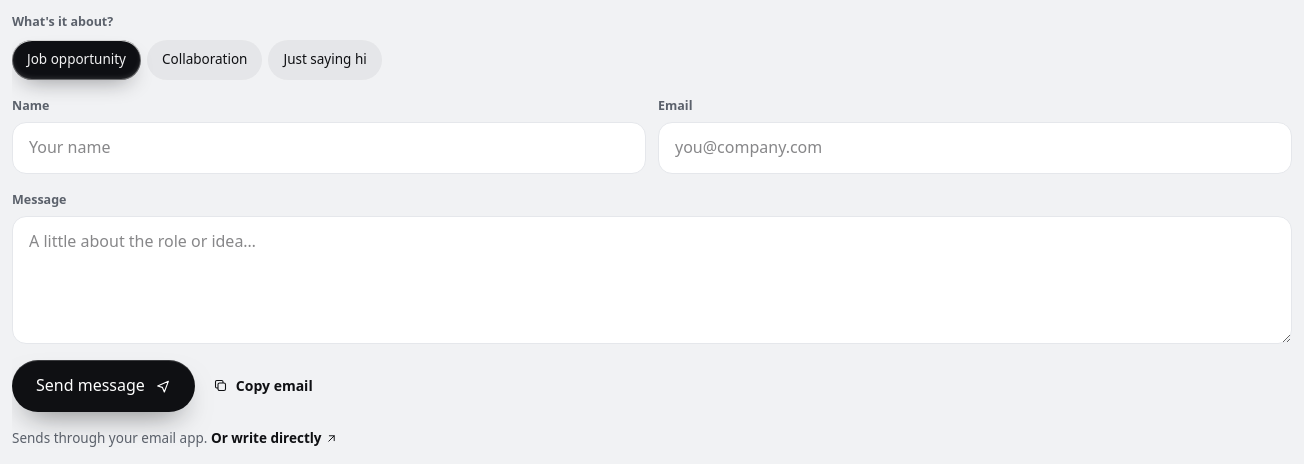
Test: contact popup › hands the drafted message to the mail app when no form service is set
Click the radio button labelled "Collaboration": (205, 60) x1=147 y1=40 x2=262 y2=80
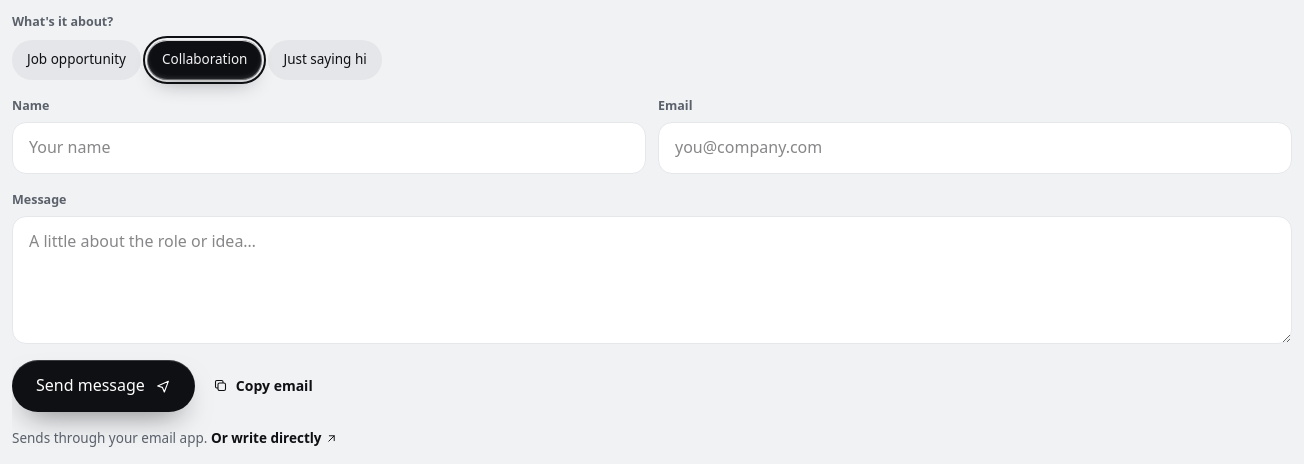
In the field labelled "name": (329, 148) x1=12 y1=122 x2=646 y2=174, type "Test Person"
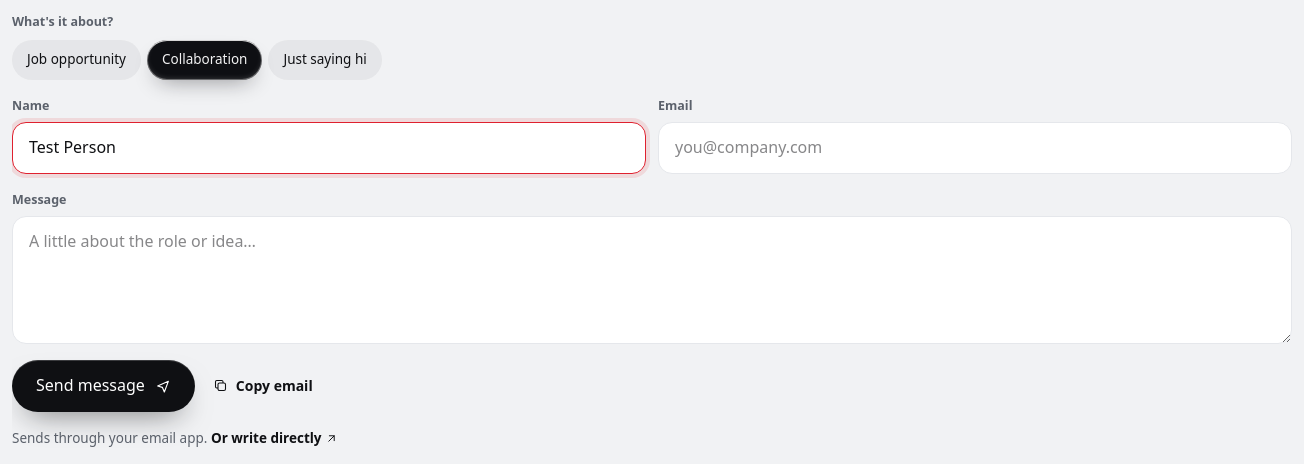
In the field labelled "email": (975, 148) x1=658 y1=122 x2=1292 y2=174, type "test@example.com"
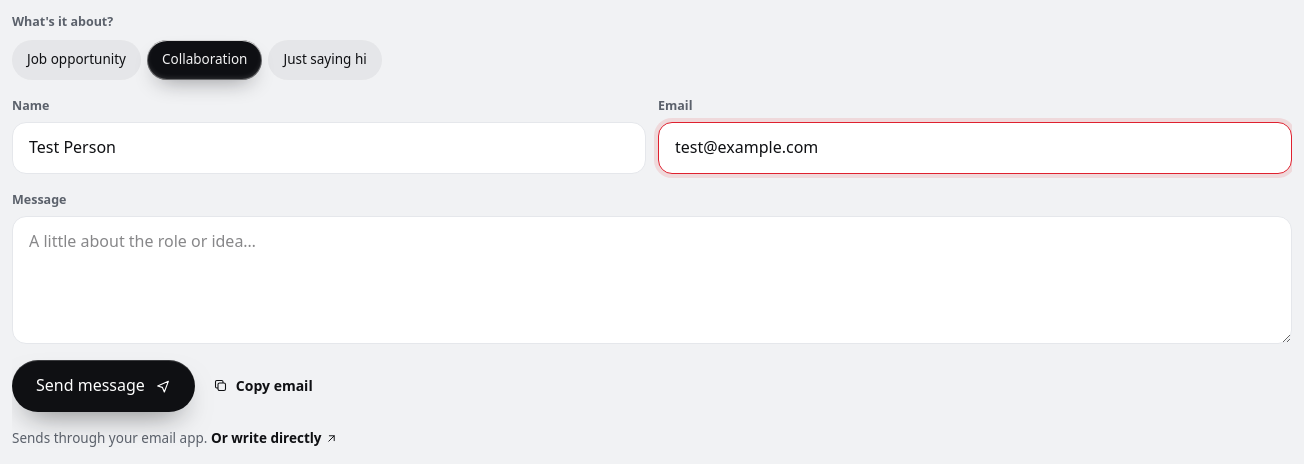
In the text box labelled "message": (652, 280) x1=12 y1=216 x2=1292 y2=344, type "This is a synthetic test message."
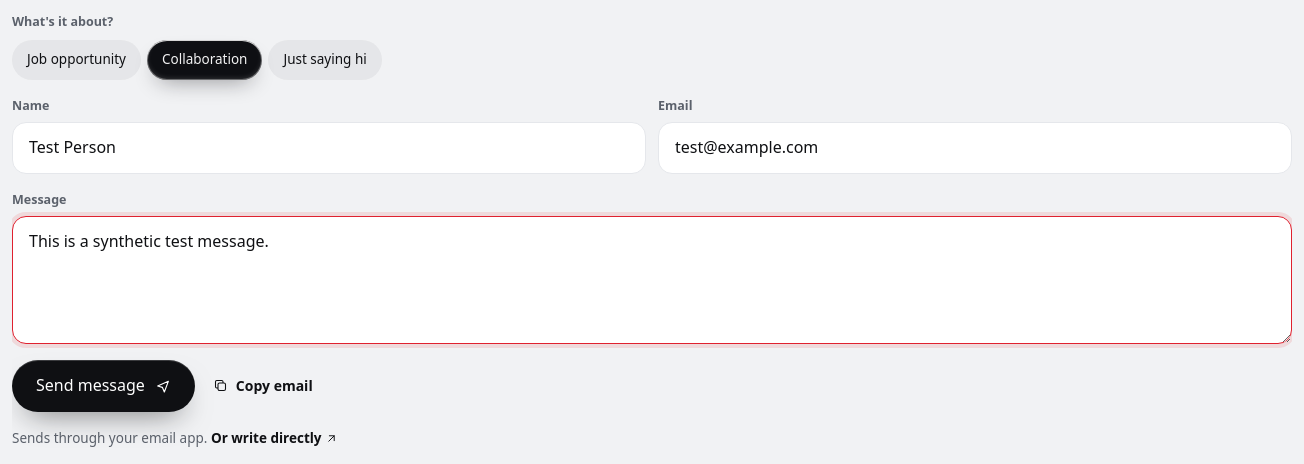
Click the button "Send message": (103, 386) x1=12 y1=360 x2=195 y2=412
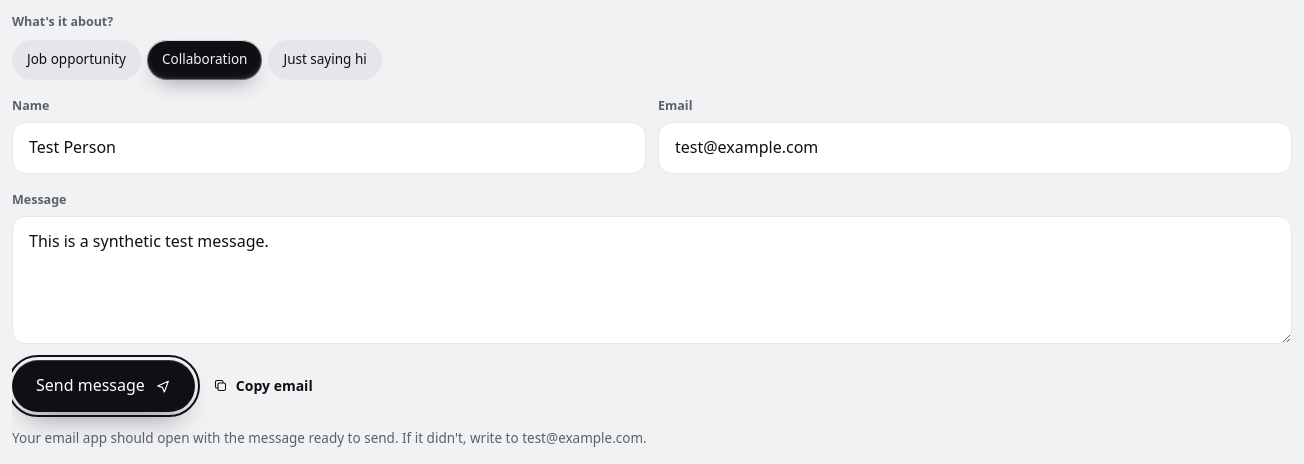
Check: the message shows "email app should open", box x1=12 y1=429 x2=647 y2=447
